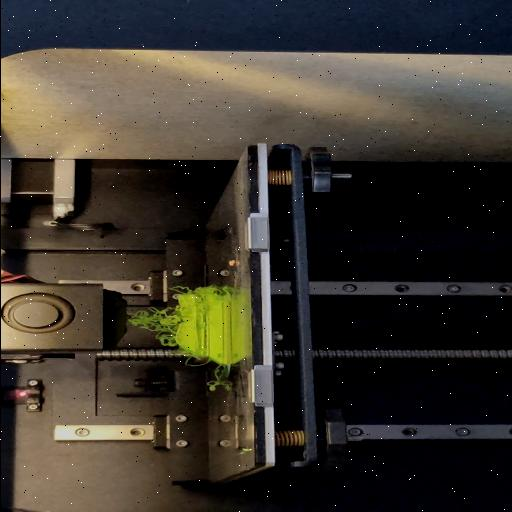spaghetti: (126, 303, 182, 348), (206, 362, 226, 390), (181, 355, 207, 367), (218, 284, 230, 296), (165, 288, 193, 292)
